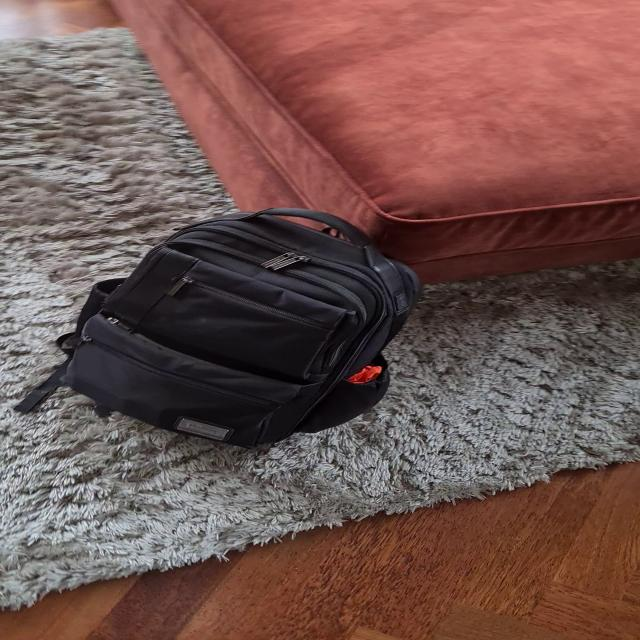backpack: (51, 202, 432, 454)
